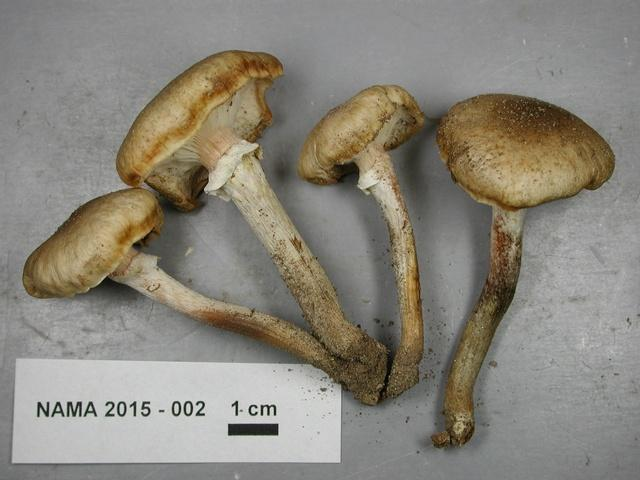Edible Mushroom: (429, 91, 616, 448), (112, 43, 302, 269), (296, 82, 426, 404), (22, 184, 274, 334)
